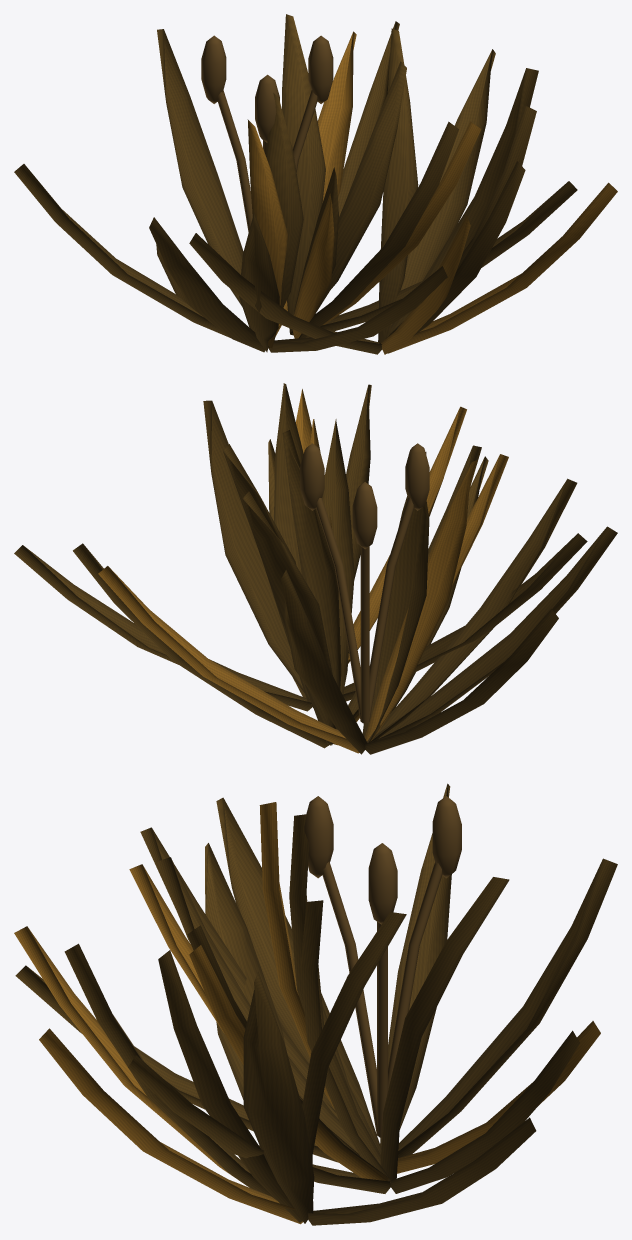
Rendered from grass_tuft_autumn.glb.
The picture shows the model from 3 angles, top to bottom: view 1: azimuth 30°, elevation 25°; view 2: azimuth 150°, elevation 25°; view 3: azimuth 270°, elevation 25°; orthographic projection. The views are drawn at different scales.
Visible parts, largest first — view 1: grass_tuft_autumn; view 2: grass_tuft_autumn; view 3: grass_tuft_autumn.
Boxes of the visible parts, bbox=[...] form: grass_tuft_autumn: bbox=[14, 14, 617, 354]; grass_tuft_autumn: bbox=[14, 383, 617, 754]; grass_tuft_autumn: bbox=[14, 783, 617, 1225].
Size of the model in its own units: 1.55 by 0.8647 by 1.3.
Materials: 3 (3 with a texture image).
